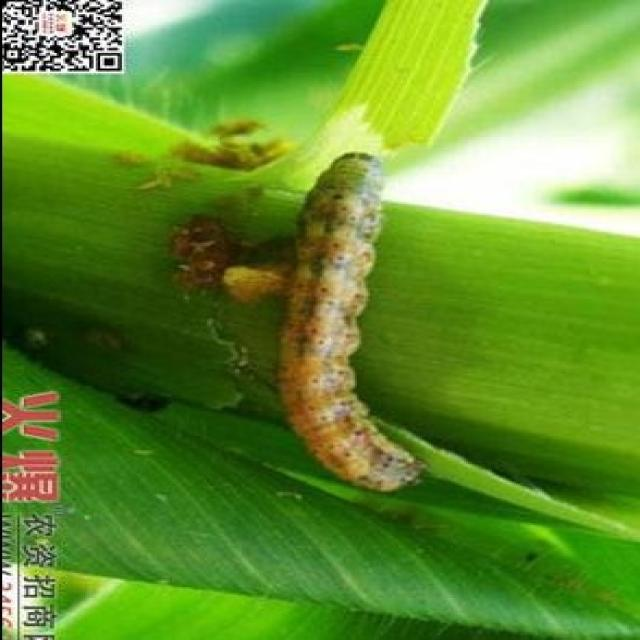army worm: (281, 148, 422, 506)
